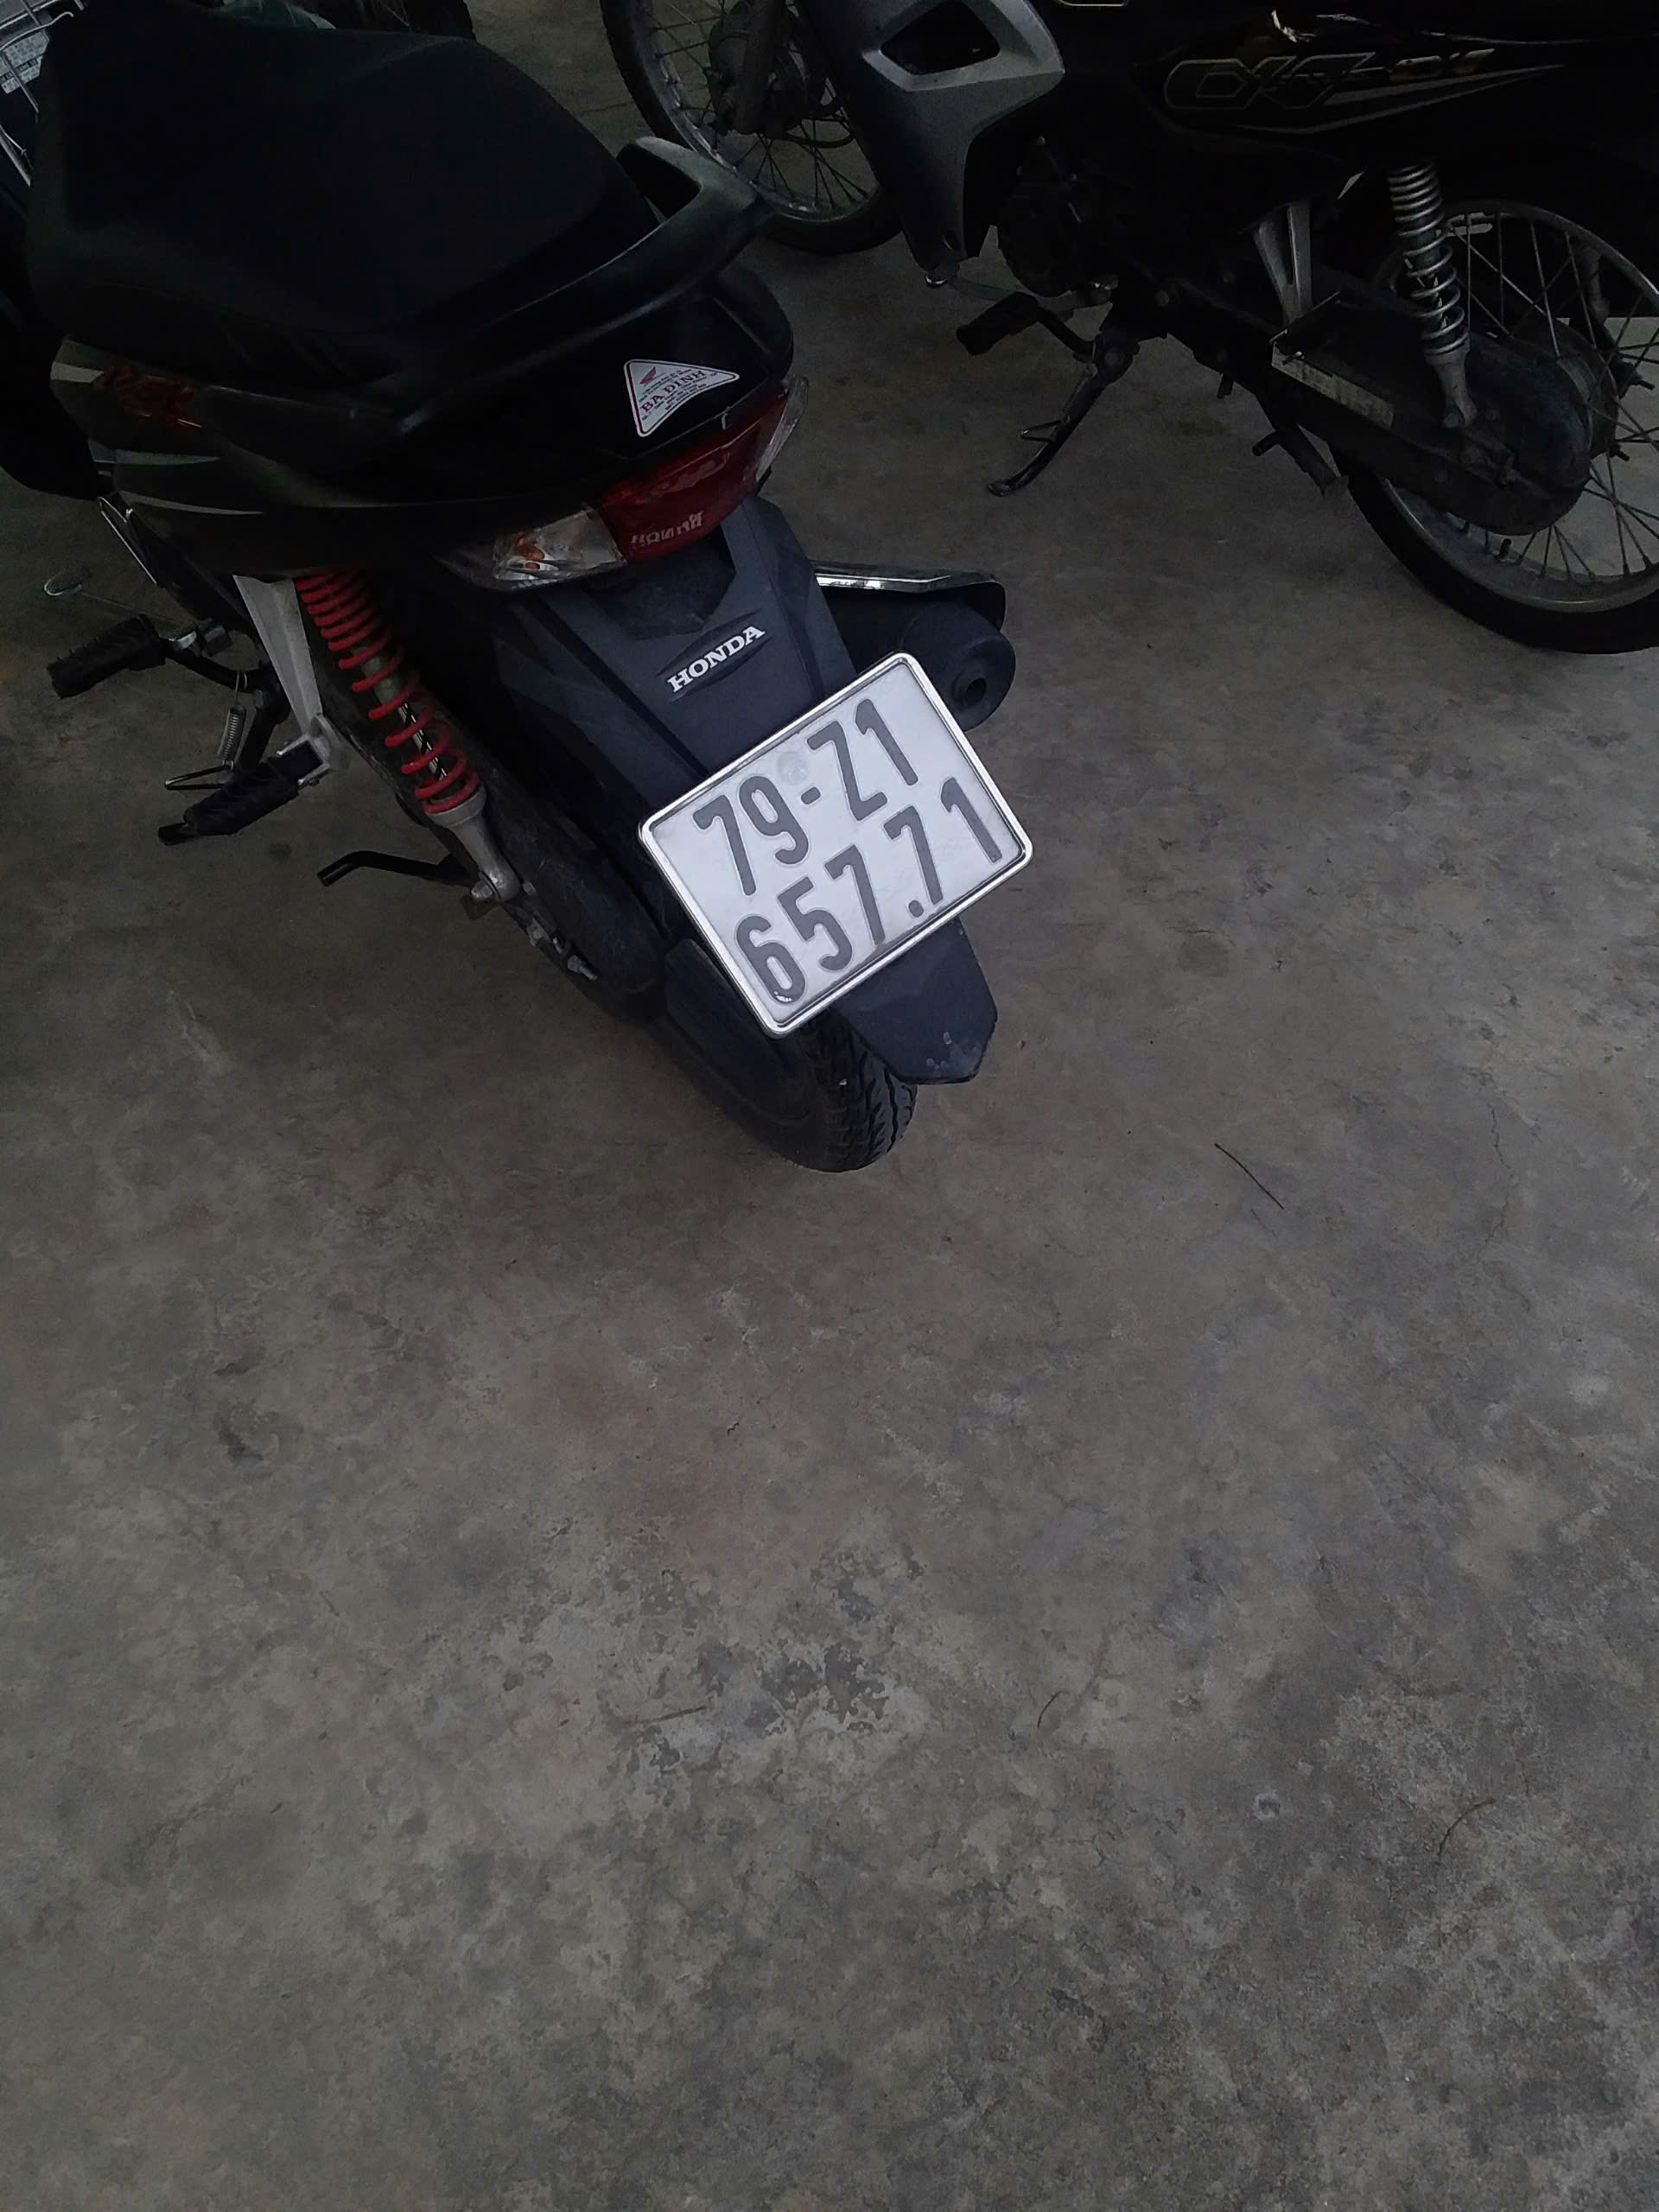bien_so: (645, 659, 1024, 1031)
